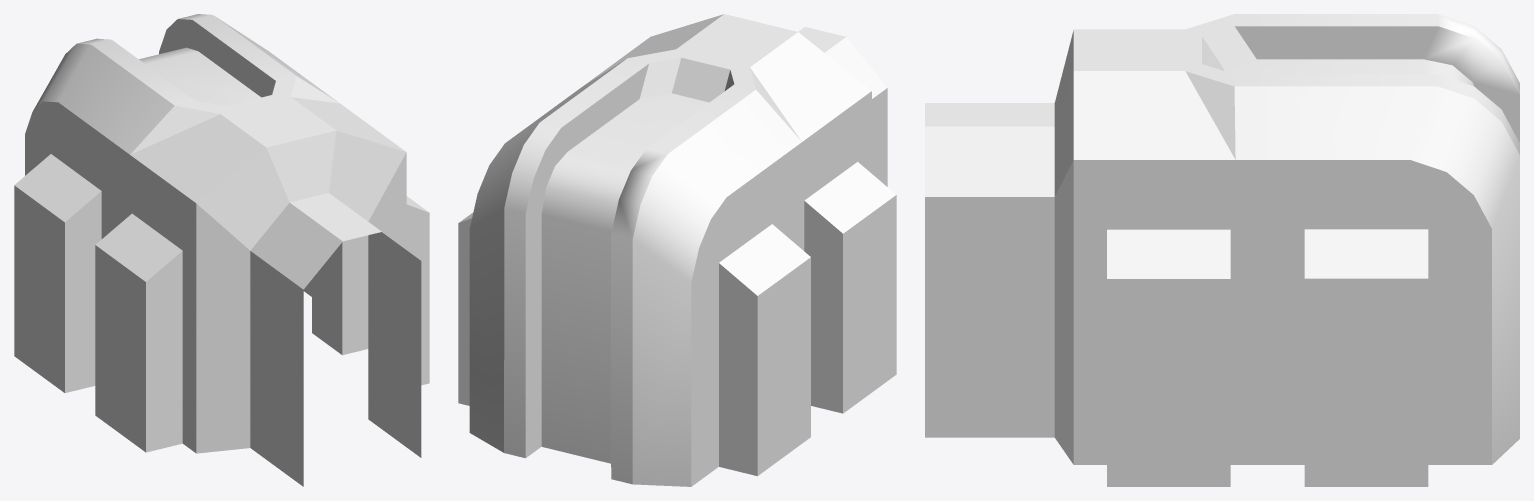
The model's file is station2.obj.
3 renders of one model, left to right at view 1: azimuth 30°, elevation 25°; view 2: azimuth 150°, elevation 25°; view 3: azimuth 270°, elevation 25°, orthographic. The views are drawn at different scales.
Visible parts, largest first — view 1: cube2_sep53; view 2: cube2_sep53; view 3: cube2_sep53.
Part boxes in pixels (x1,y1,x2,y2): cube2_sep53: (14, 14, 429, 486); cube2_sep53: (458, 14, 896, 486); cube2_sep53: (925, 14, 1519, 486).
Size of the model in its own units: 3.02 by 2.93 by 4.49.
1 material, 1 textured.
